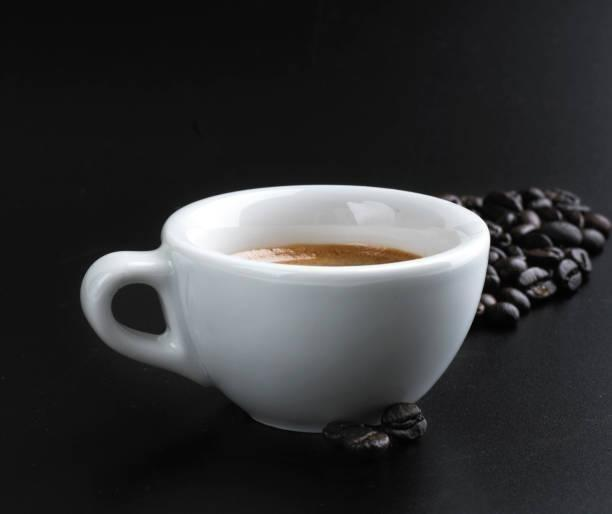cup-handle: (80, 182, 493, 438)
